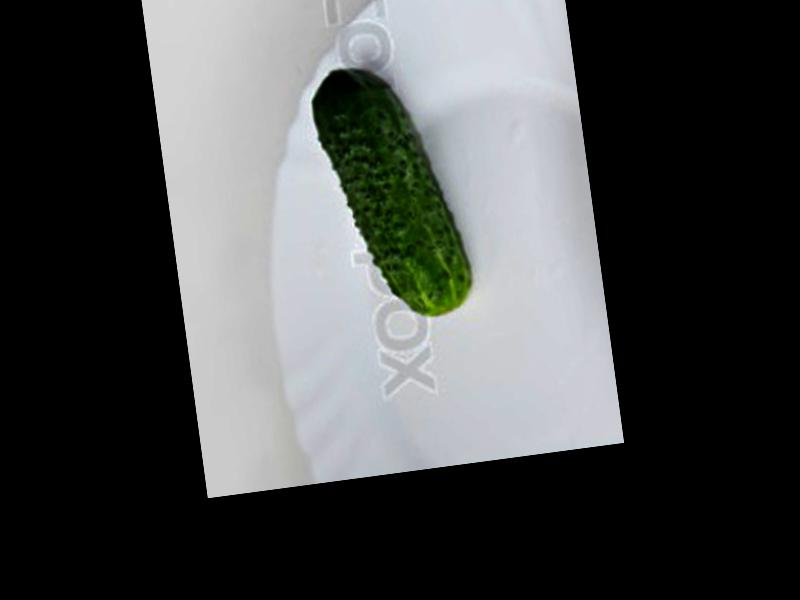Cucumber: (308, 59, 475, 326)
